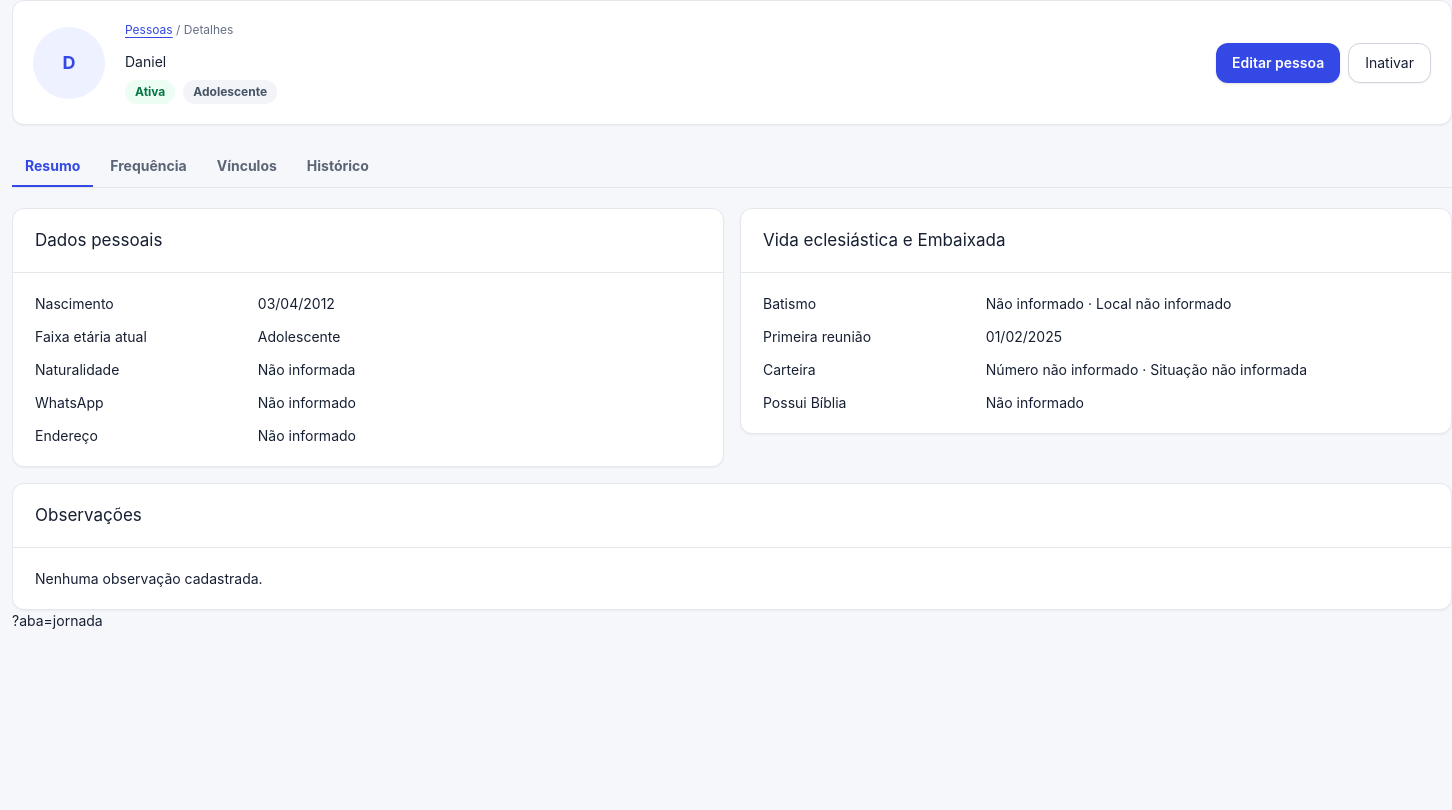
Test: Páginas de Pessoas › não apresenta Jornada ao Visitante e usa responsáveis sem cadastro de outra Pessoa
Expected: the heading "Daniel" is shown, [125, 53, 166, 70]
What coordinates should you click on to do the following:
click the tab "Vínculos"
I would click on:
 (247, 166)
Its box is [204, 145, 290, 187].
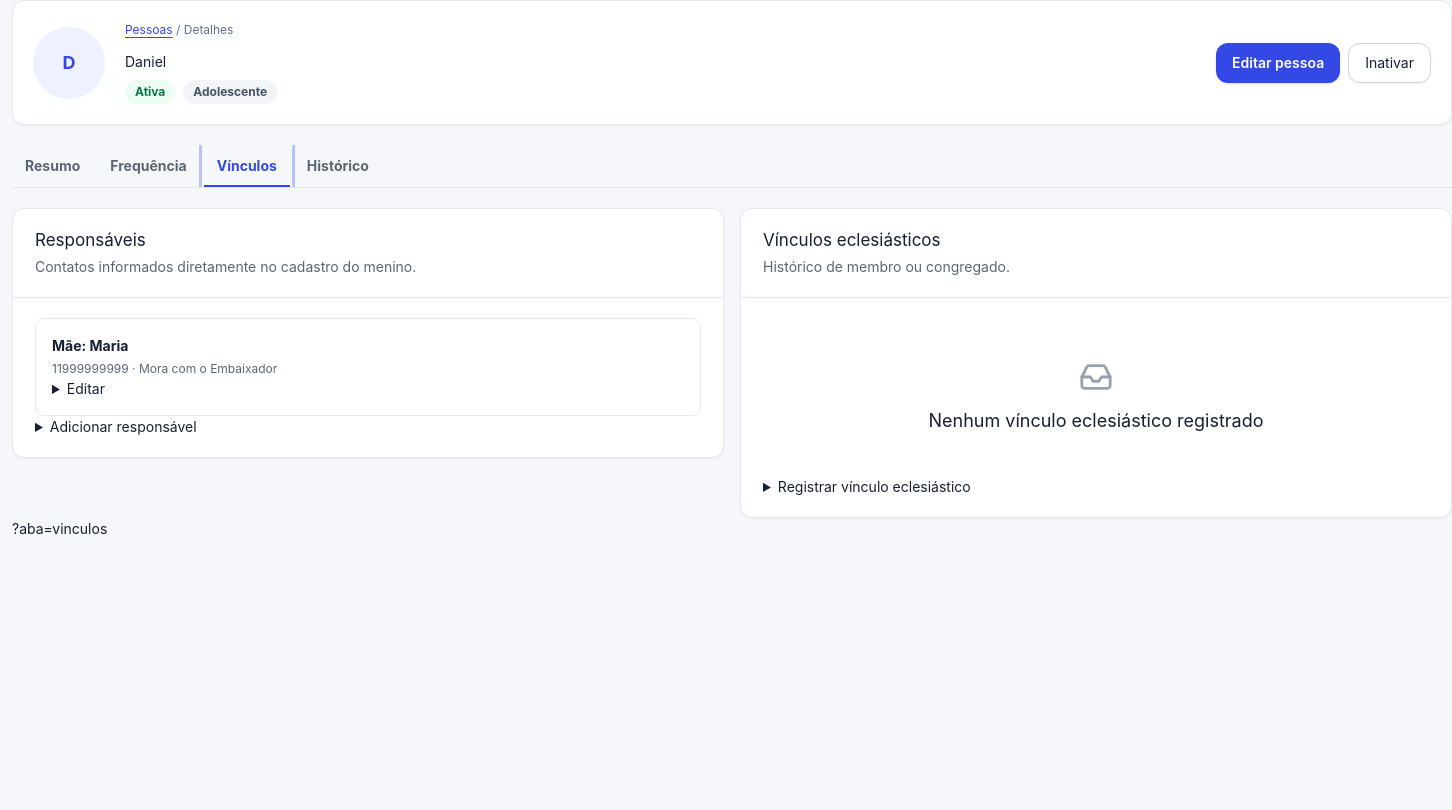
Expected: the text "Mãe: Maria" is shown, [52, 337, 128, 354]
Expected: the text "11999999999 · Mora com o Embaixador" is shown, [52, 361, 277, 376]
Expected: the heading "Adicionar responsável" is shown, [50, 418, 197, 435]
